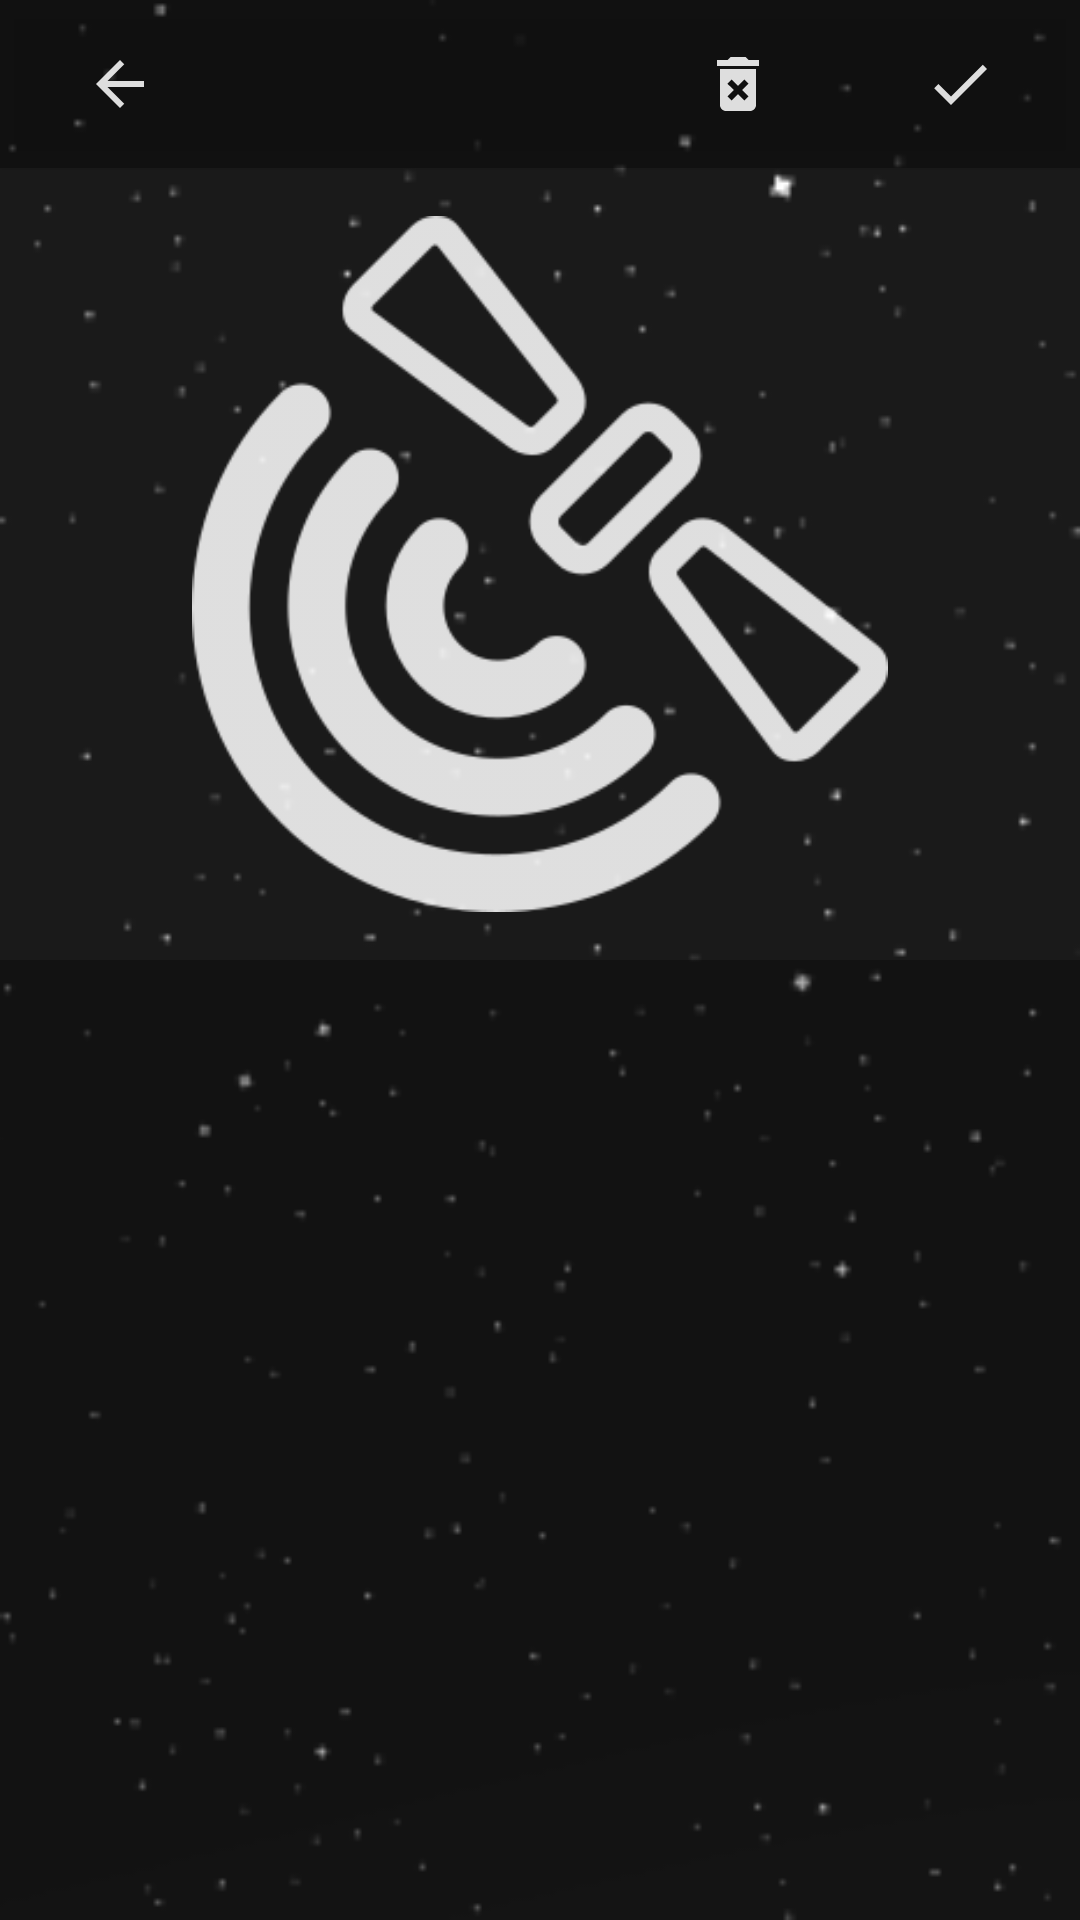

Named icons in this screenshot (1080 × 1920) and their centers, (x=x, y=y):
Back Button: (x=120, y=65)
Delete Button: (x=719, y=102)
Finish Editing Note Button: (x=962, y=115)
